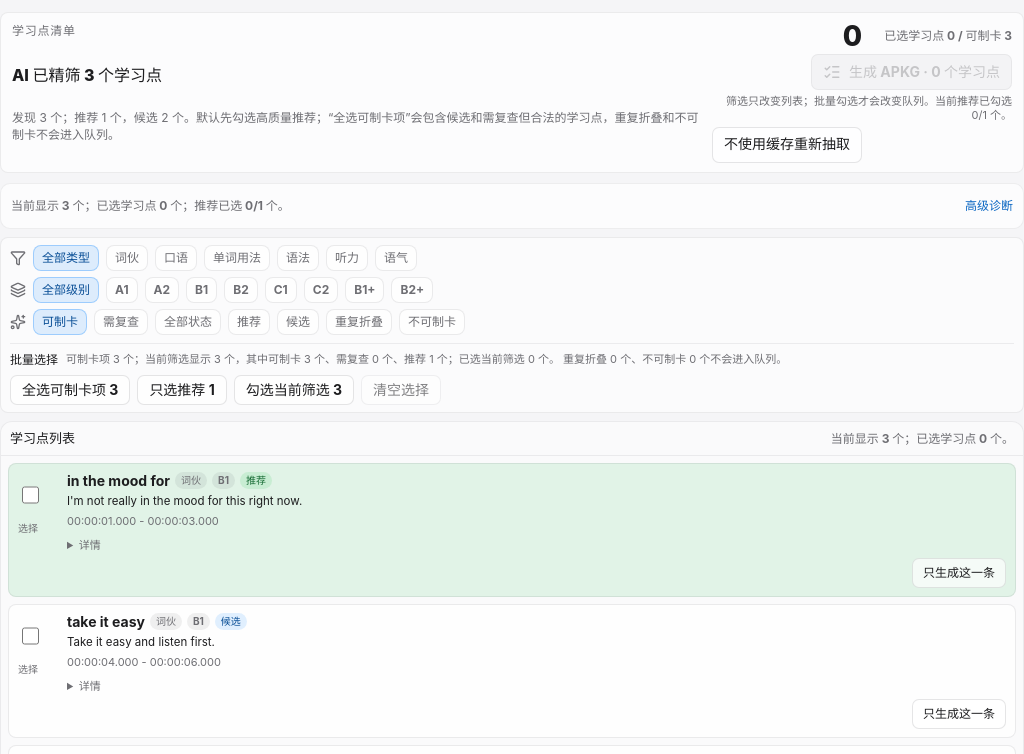
Test case: LearningPointOverview › selects only the current level filter when using the current filtered bulk action
Step 1. Click the button "A2" → point(162, 290), box [145,277,179,303]
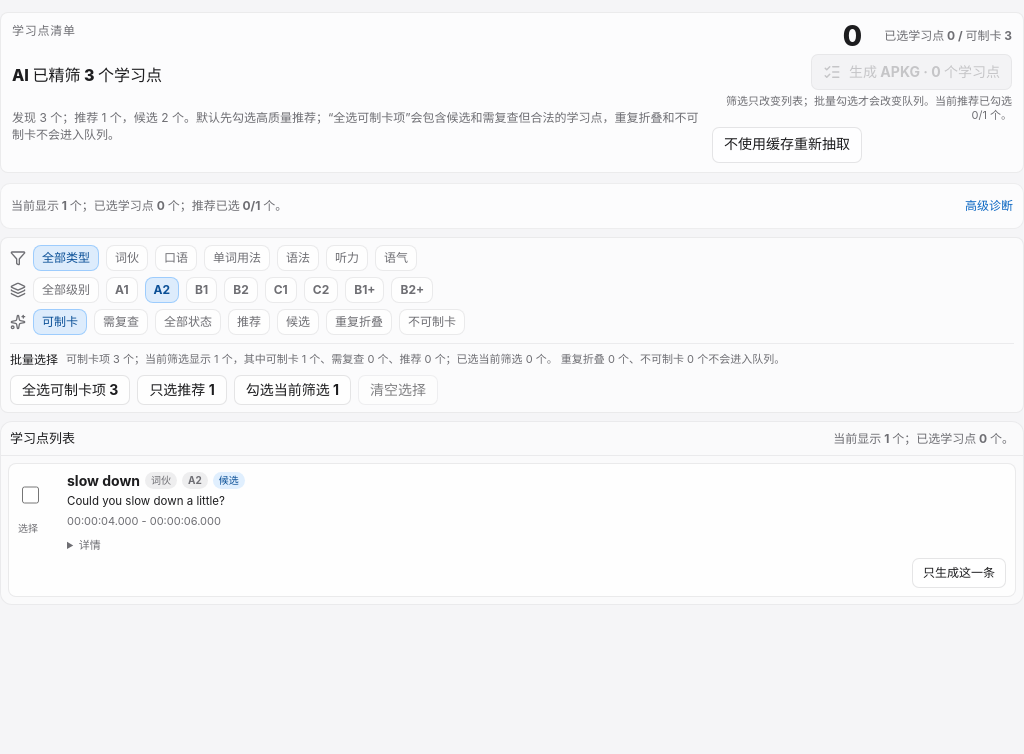
Expected: the text "当前筛选显示 1 个" is shown, [66,352,785,367]
Step 2. Click the button "勾选当前筛选 1" → point(292, 390), box [234,375,351,405]
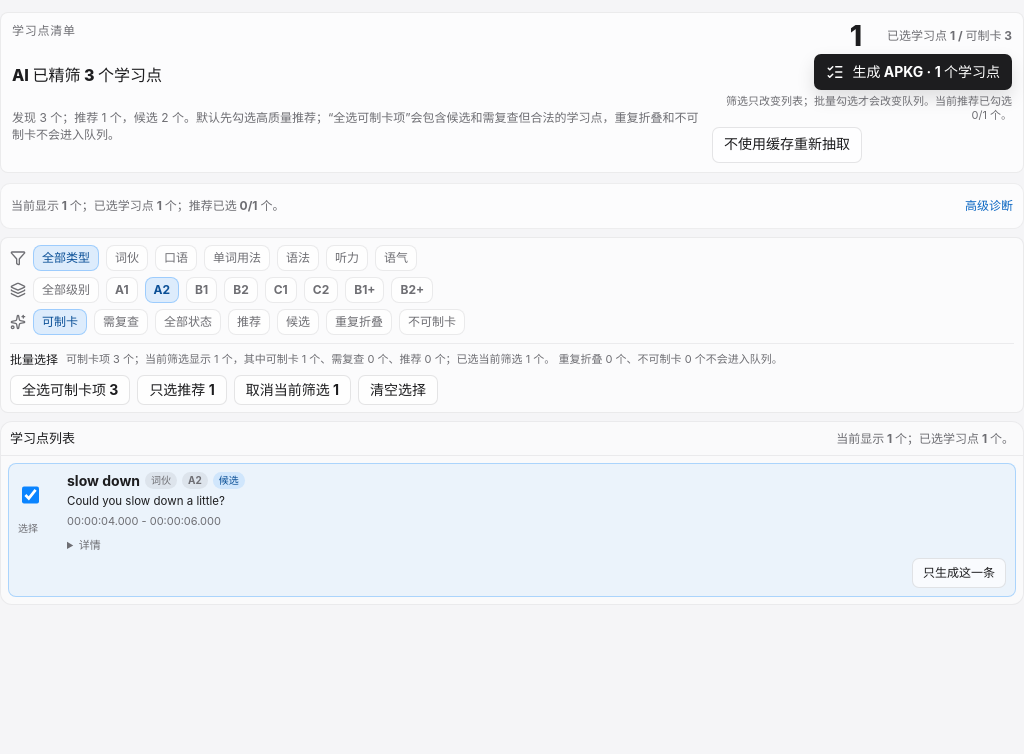
Expected: the button "生成 APKG · 1 个学习点" is enabled, [814,54,1012,90]
